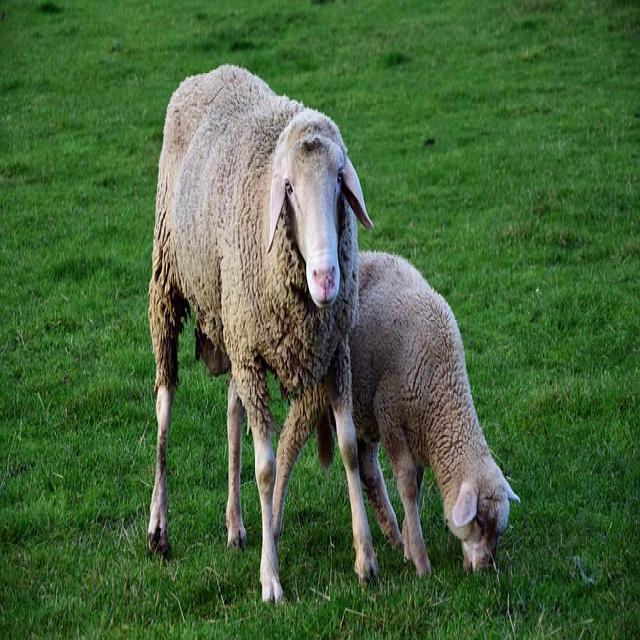goat: (148, 65, 373, 604), (338, 252, 520, 588)
